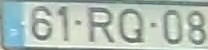0: (158, 7, 184, 46)
1: (55, 4, 70, 43)
6: (28, 4, 53, 42)
8: (184, 8, 207, 46)
Q: (115, 7, 146, 45)
R: (85, 5, 116, 44)
